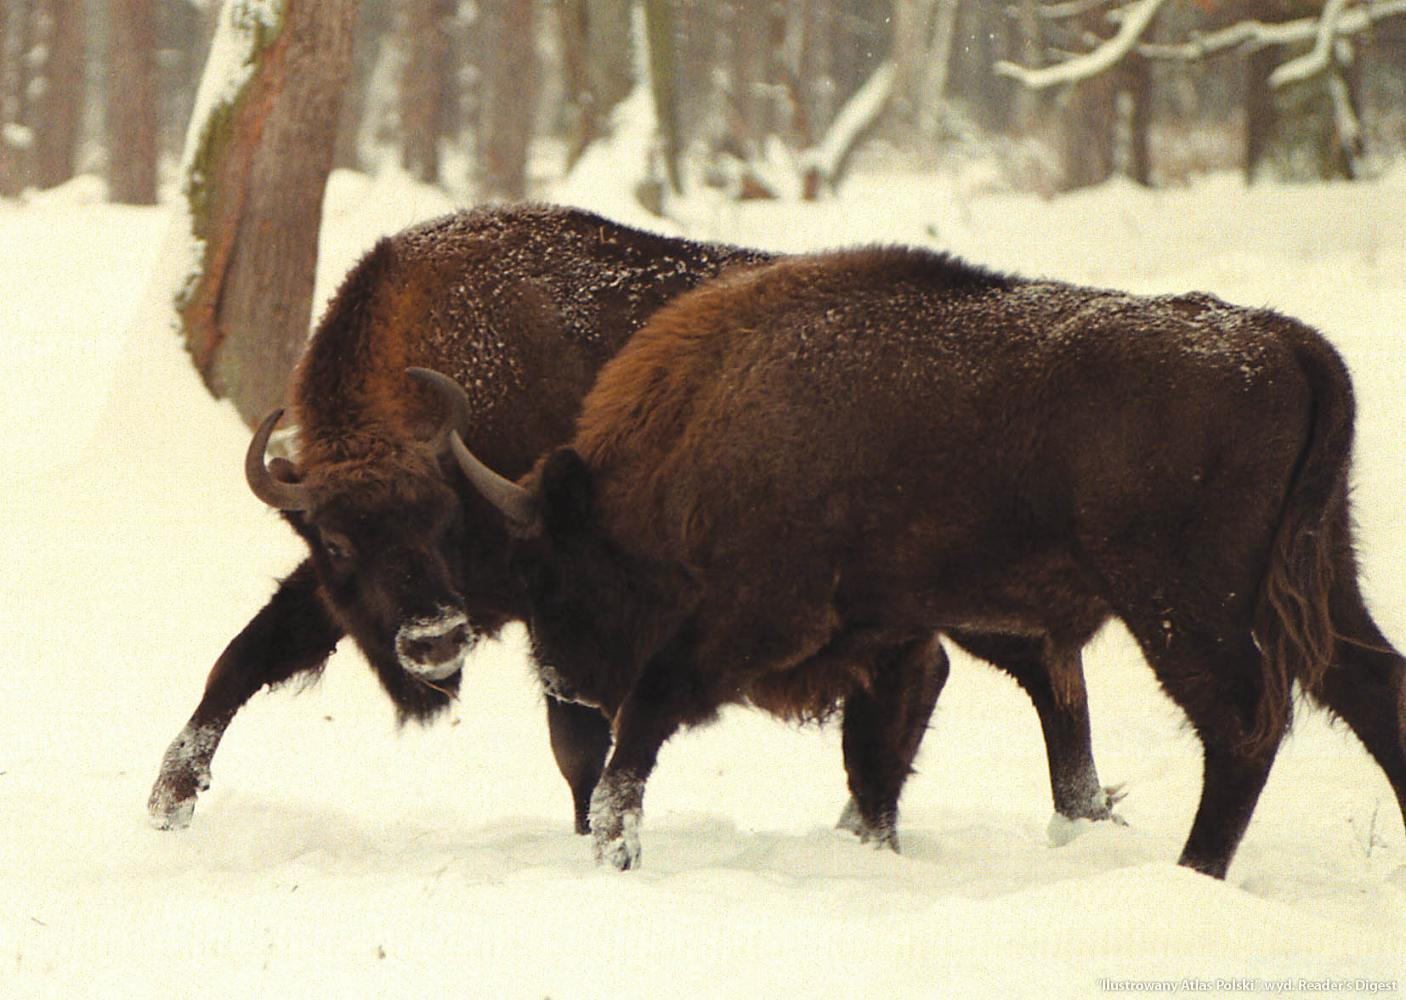zubr: (498, 238, 1406, 918), (140, 188, 701, 864)
